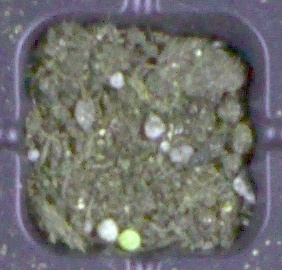chilli seed: (117, 229, 140, 250)
